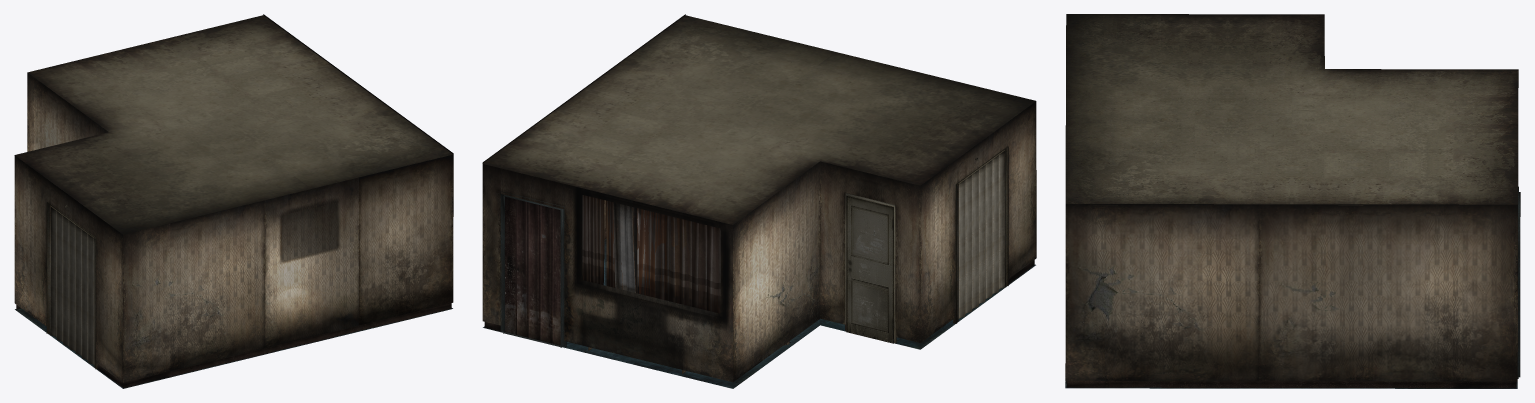
The model's file is HotelRoomUse.obj.
The picture shows the model from 3 angles, left to right: view 1: azimuth 30°, elevation 25°; view 2: azimuth 150°, elevation 25°; view 3: azimuth 270°, elevation 25°; orthographic projection. The views are drawn at different scales.
Parts seen in each view (by area): view 1: hotel-room; view 2: hotel-room; view 3: hotel-room.
Boxes of the visible parts, box(x1,y1,x2,y2) form: hotel-room: box(14, 14, 453, 388); hotel-room: box(482, 14, 1036, 388); hotel-room: box(1065, 14, 1520, 388).
Size of the model in its own units: 59.27 by 26.64 by 59.37.
